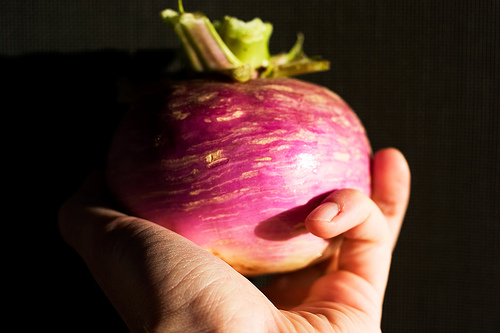turnip: (110, 71, 372, 276)
